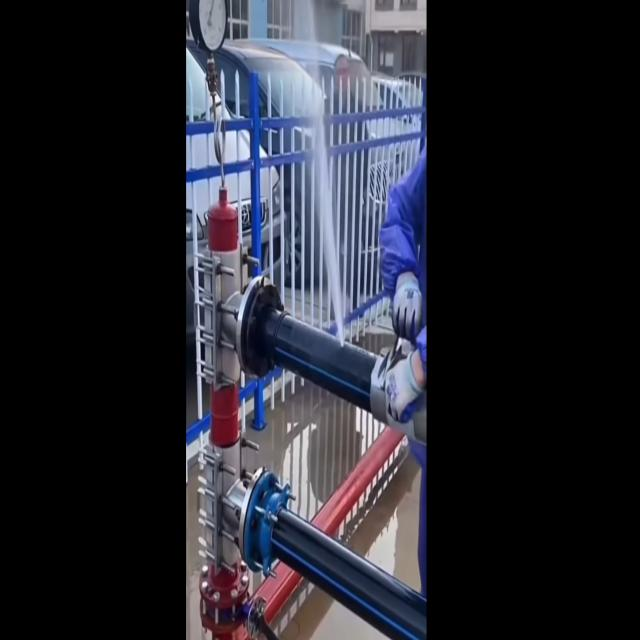leak: (315, 116, 344, 342)
